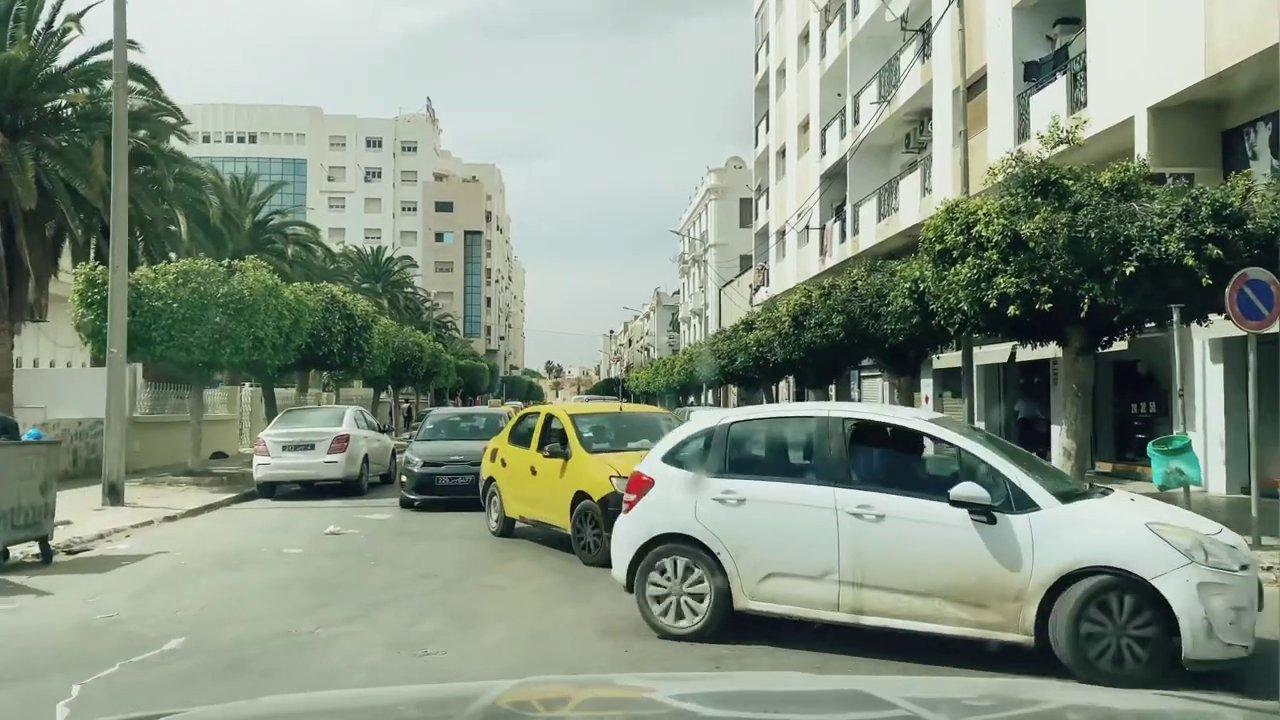no parking: (1220, 263, 1280, 332)
